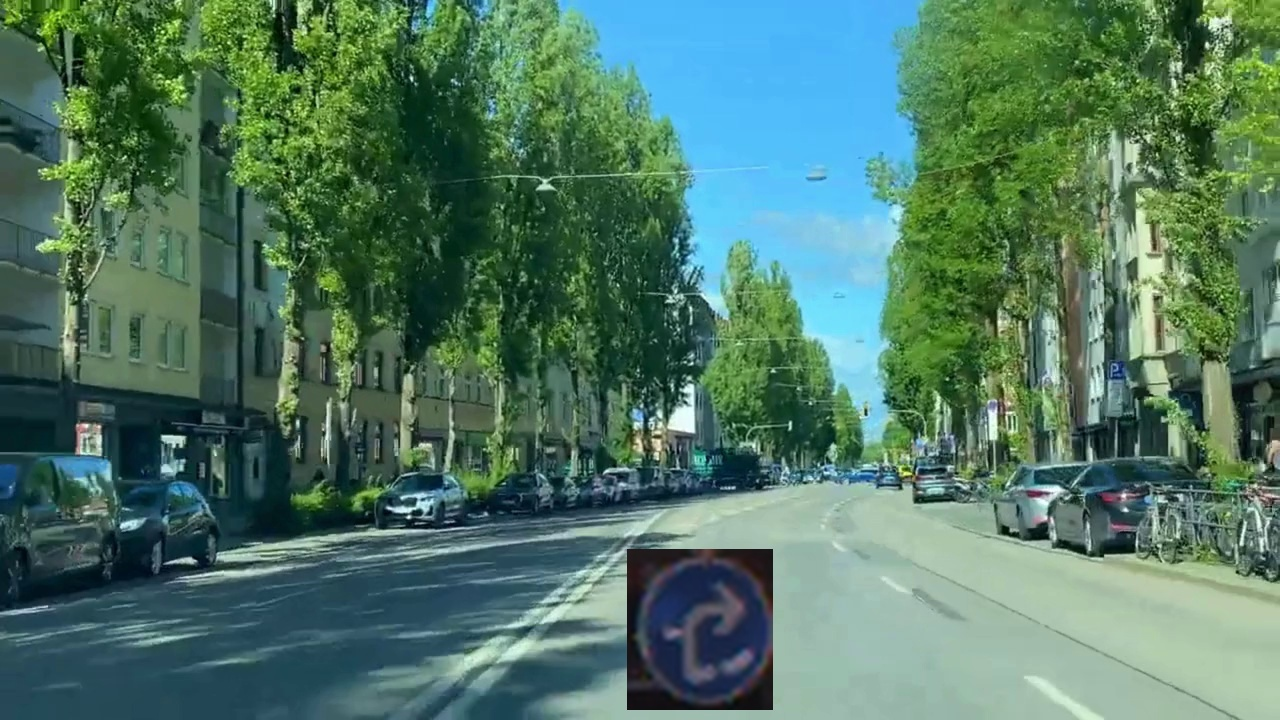Turn right: (627, 549, 773, 710)
